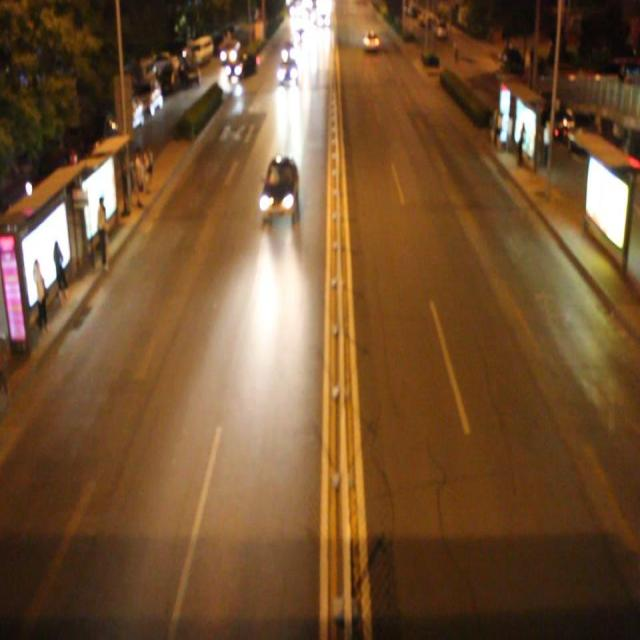car: (259, 154, 300, 216), (277, 54, 297, 85)
